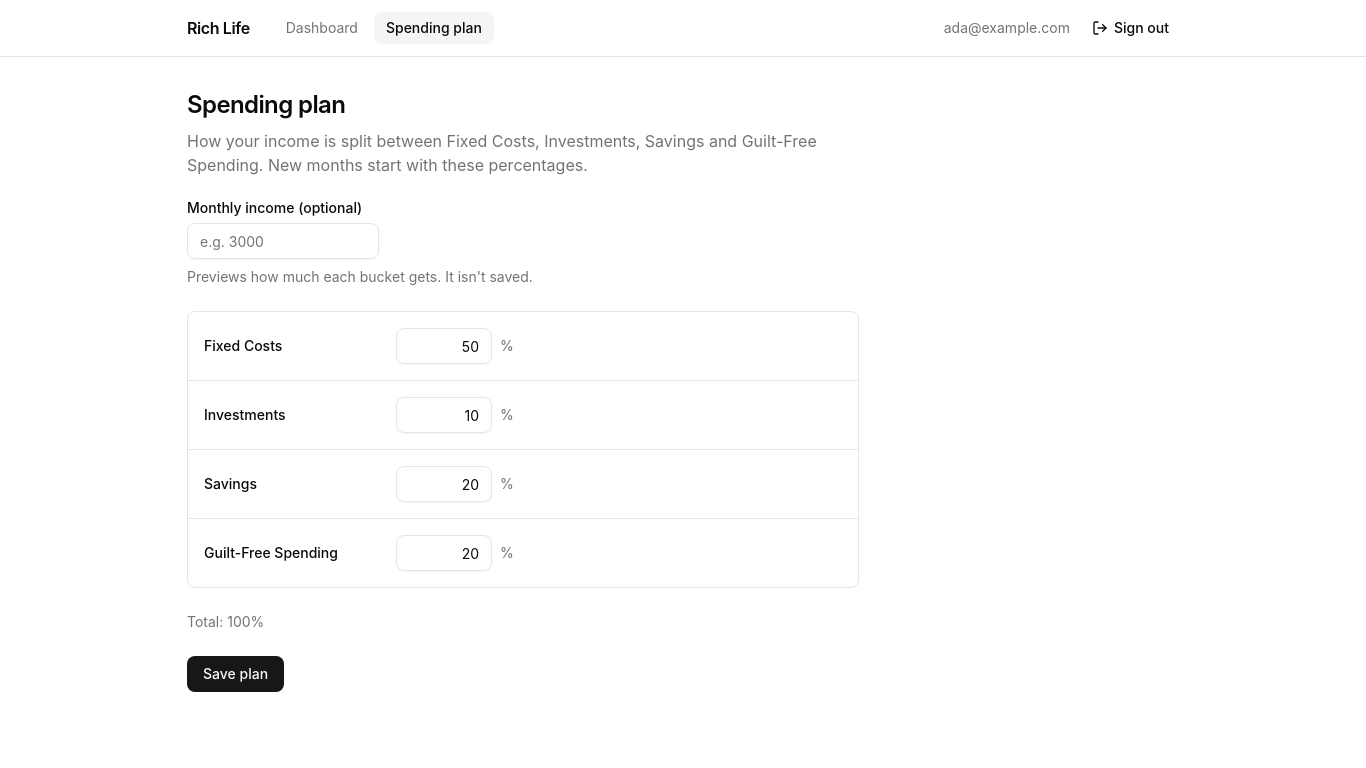
Test: PlanPage › updates the total while the user types
The width and height of the screenshot is (1366, 768).
Replace the text in the field labelled "Fixed Costs" with "45.5": (444, 346) 396,328 -> 492,364
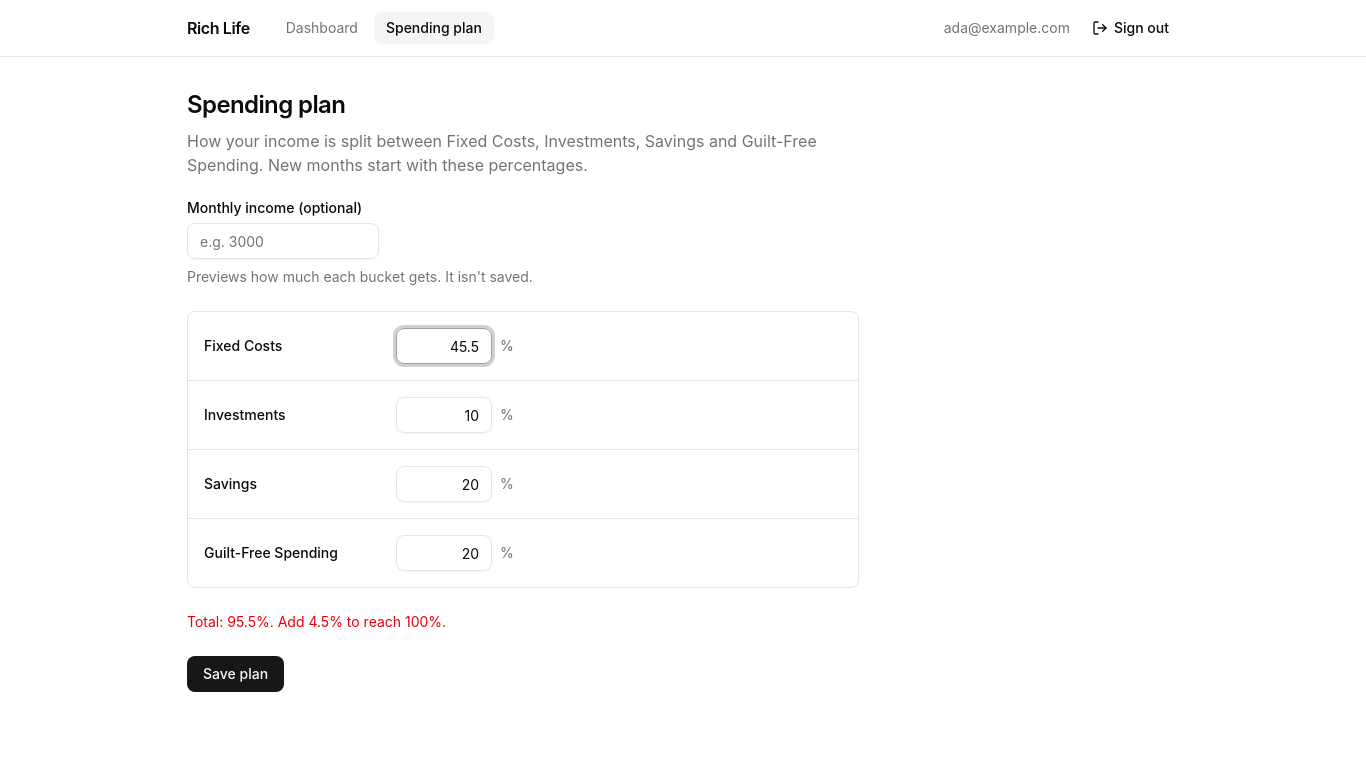
Expected: the message "Total" reads "Total: 95.5%. Add 4.5% to reach 100%.", 187,613 -> 446,630
